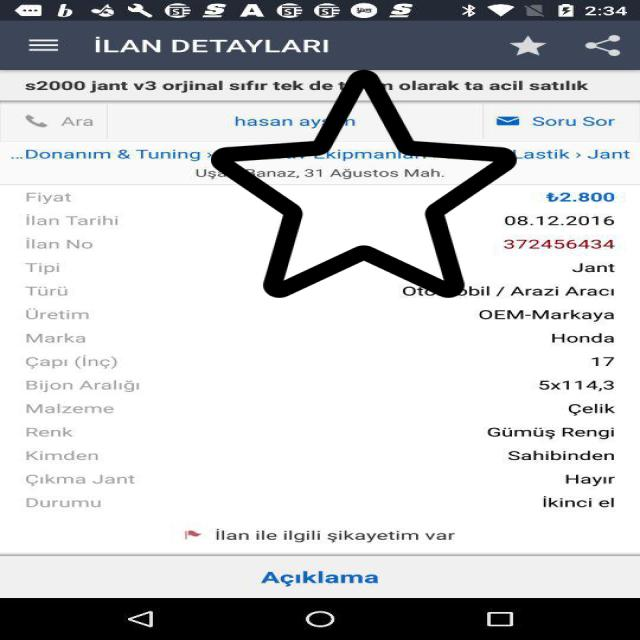forced continuity: (211, 65, 517, 302)
